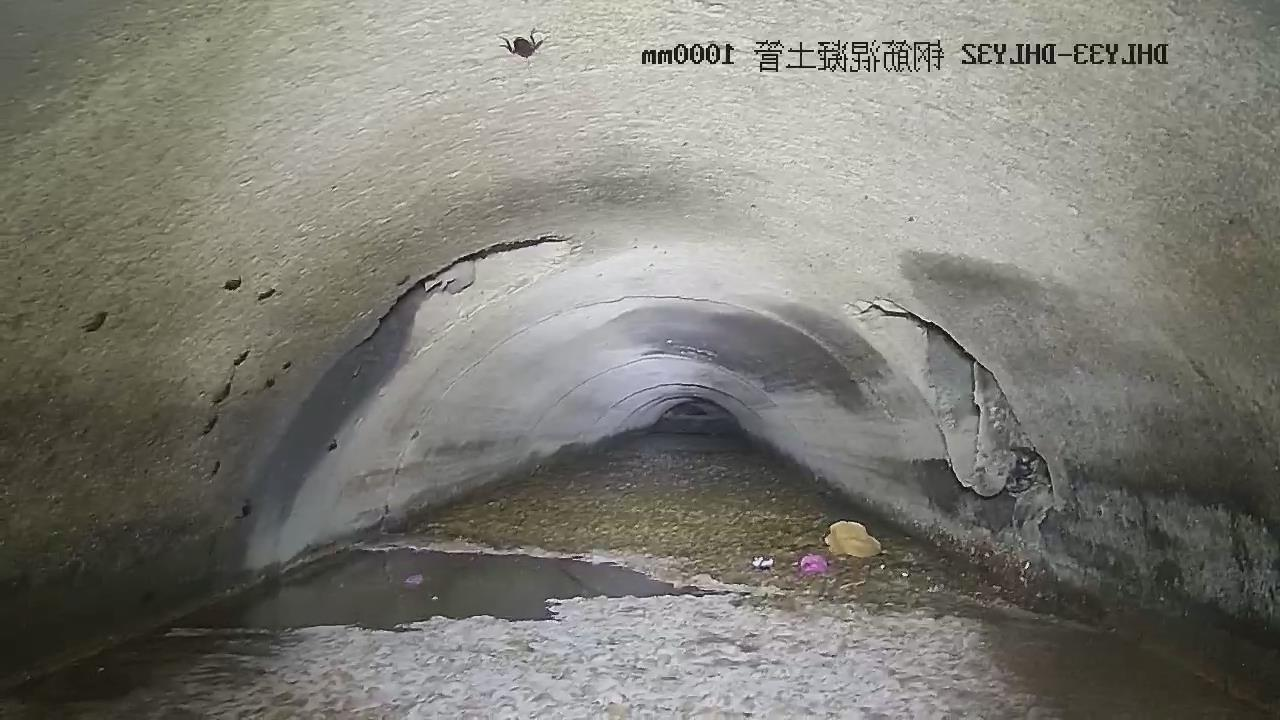FZ: (1, 419, 1264, 719)
PL: (823, 284, 1085, 572), (331, 218, 591, 380)
